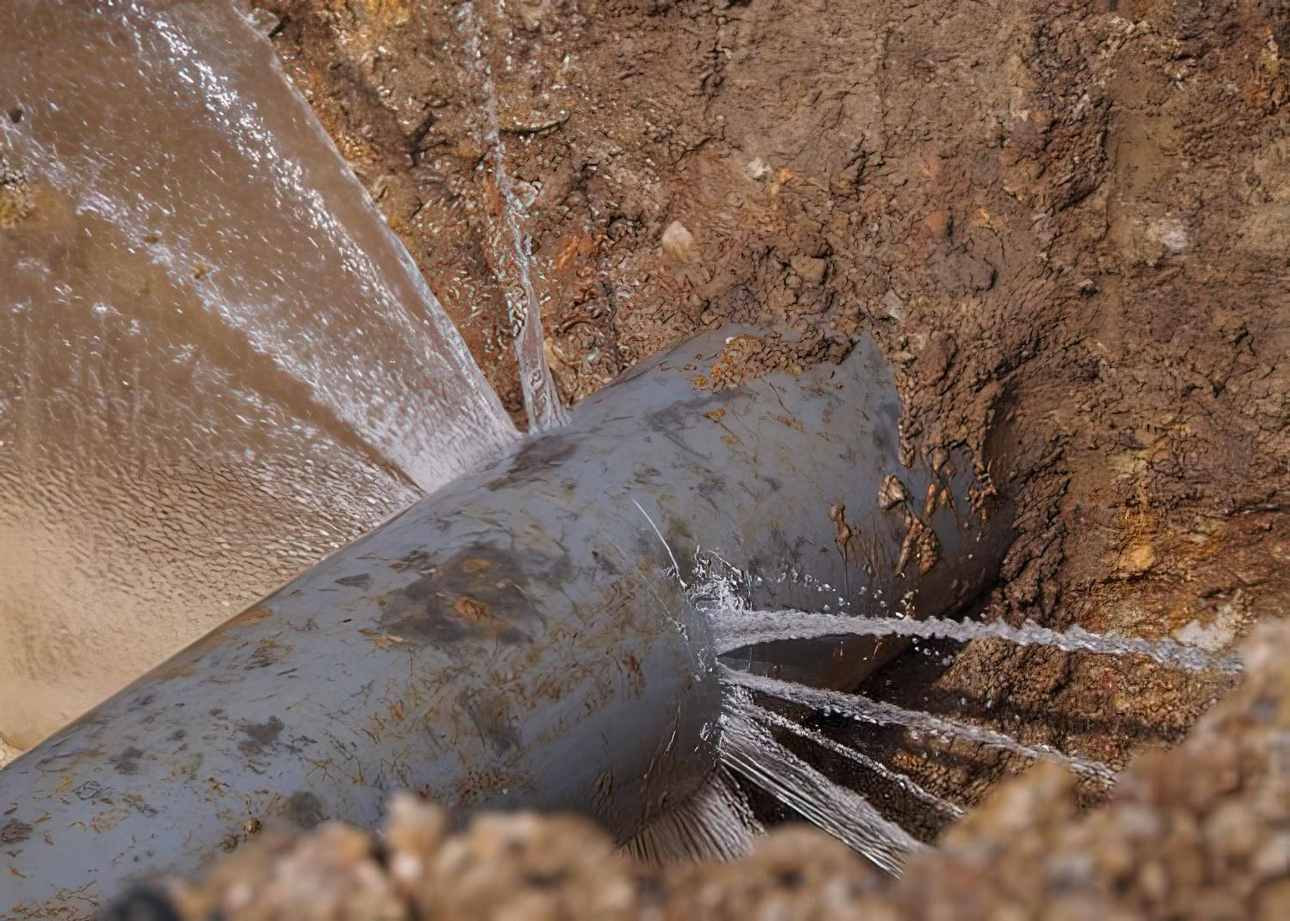pipe burst: (0, 0, 581, 765), (608, 579, 1221, 885)
